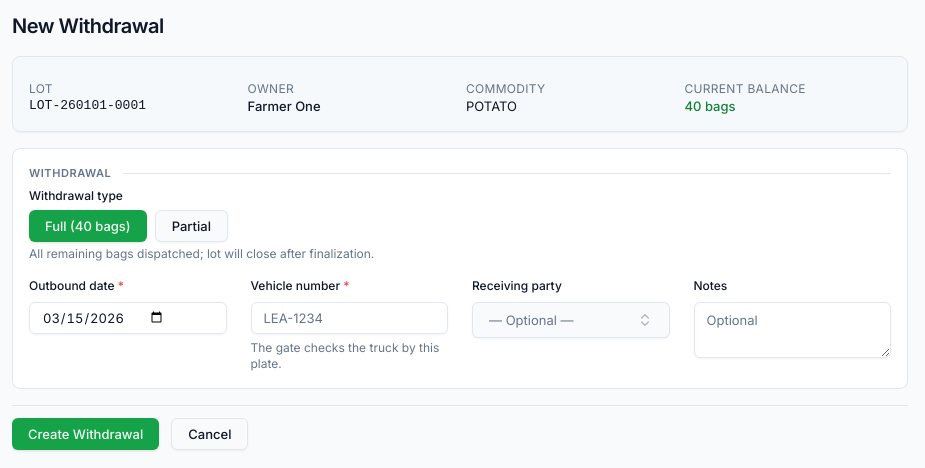
Test case: WithdrawPage — outbound date › counts backdated days from calendar dates
The width and height of the screenshot is (925, 468).
Check: the text "LOT-260101-0001" is shown, box [29,98,146,113]
Type "2026-03-10" into the date field labelled "Outbound date *". click: (128, 318)
box: [29,302,226,334]
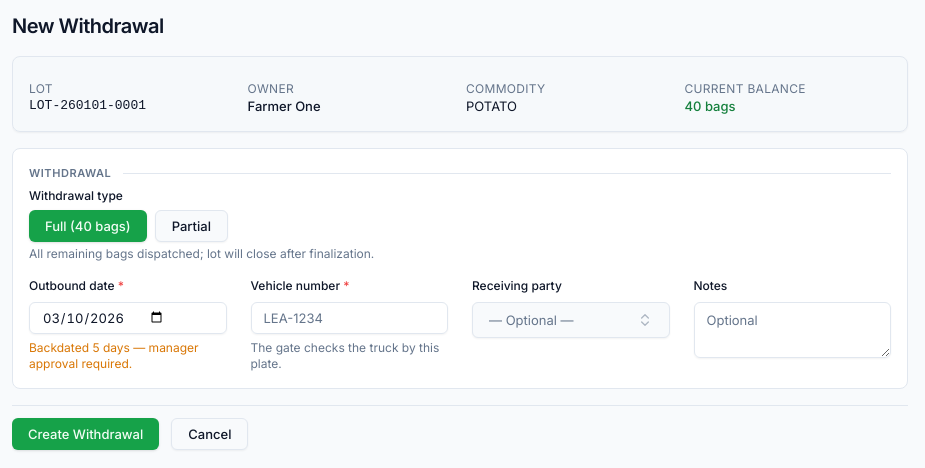
Check: the text "Backdated 5 days — manager approval required." is shown, box [29,340,226,372]
# Inside the 3-day window: no warning.
Type "2026-03-12" into the date field labelled "Outbound date *". click: (128, 318)
box: [29,302,226,334]
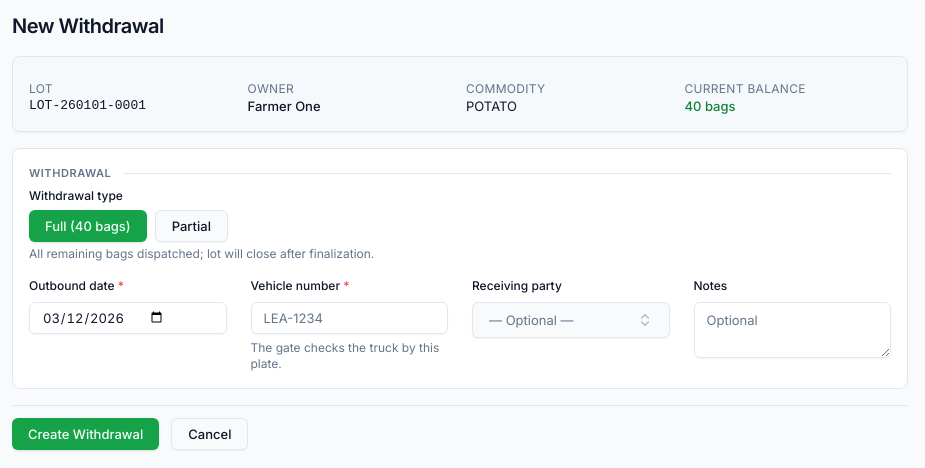
Check: the text "Backdated" is gone
